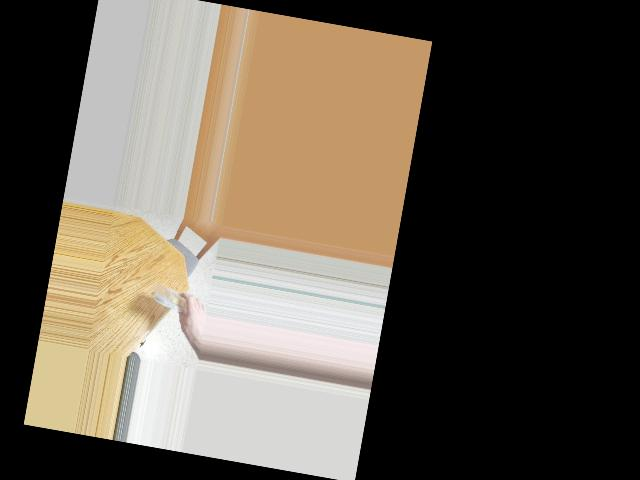cheese: (152, 283, 190, 319)
